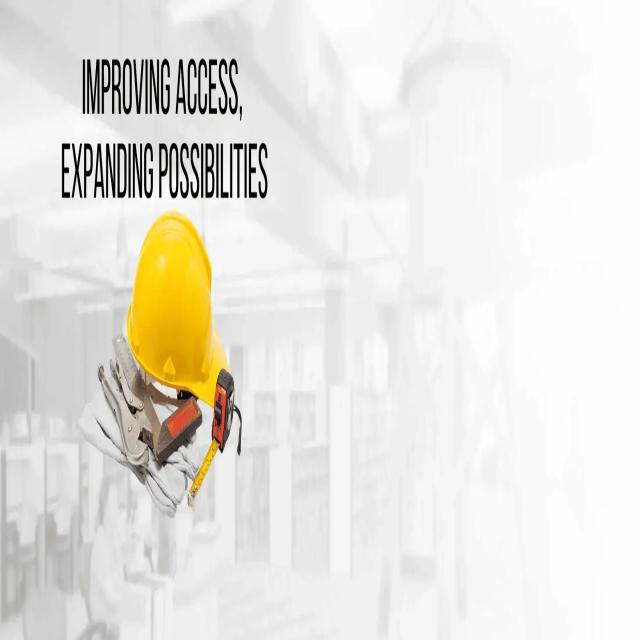helmet: (125, 157, 236, 423)
